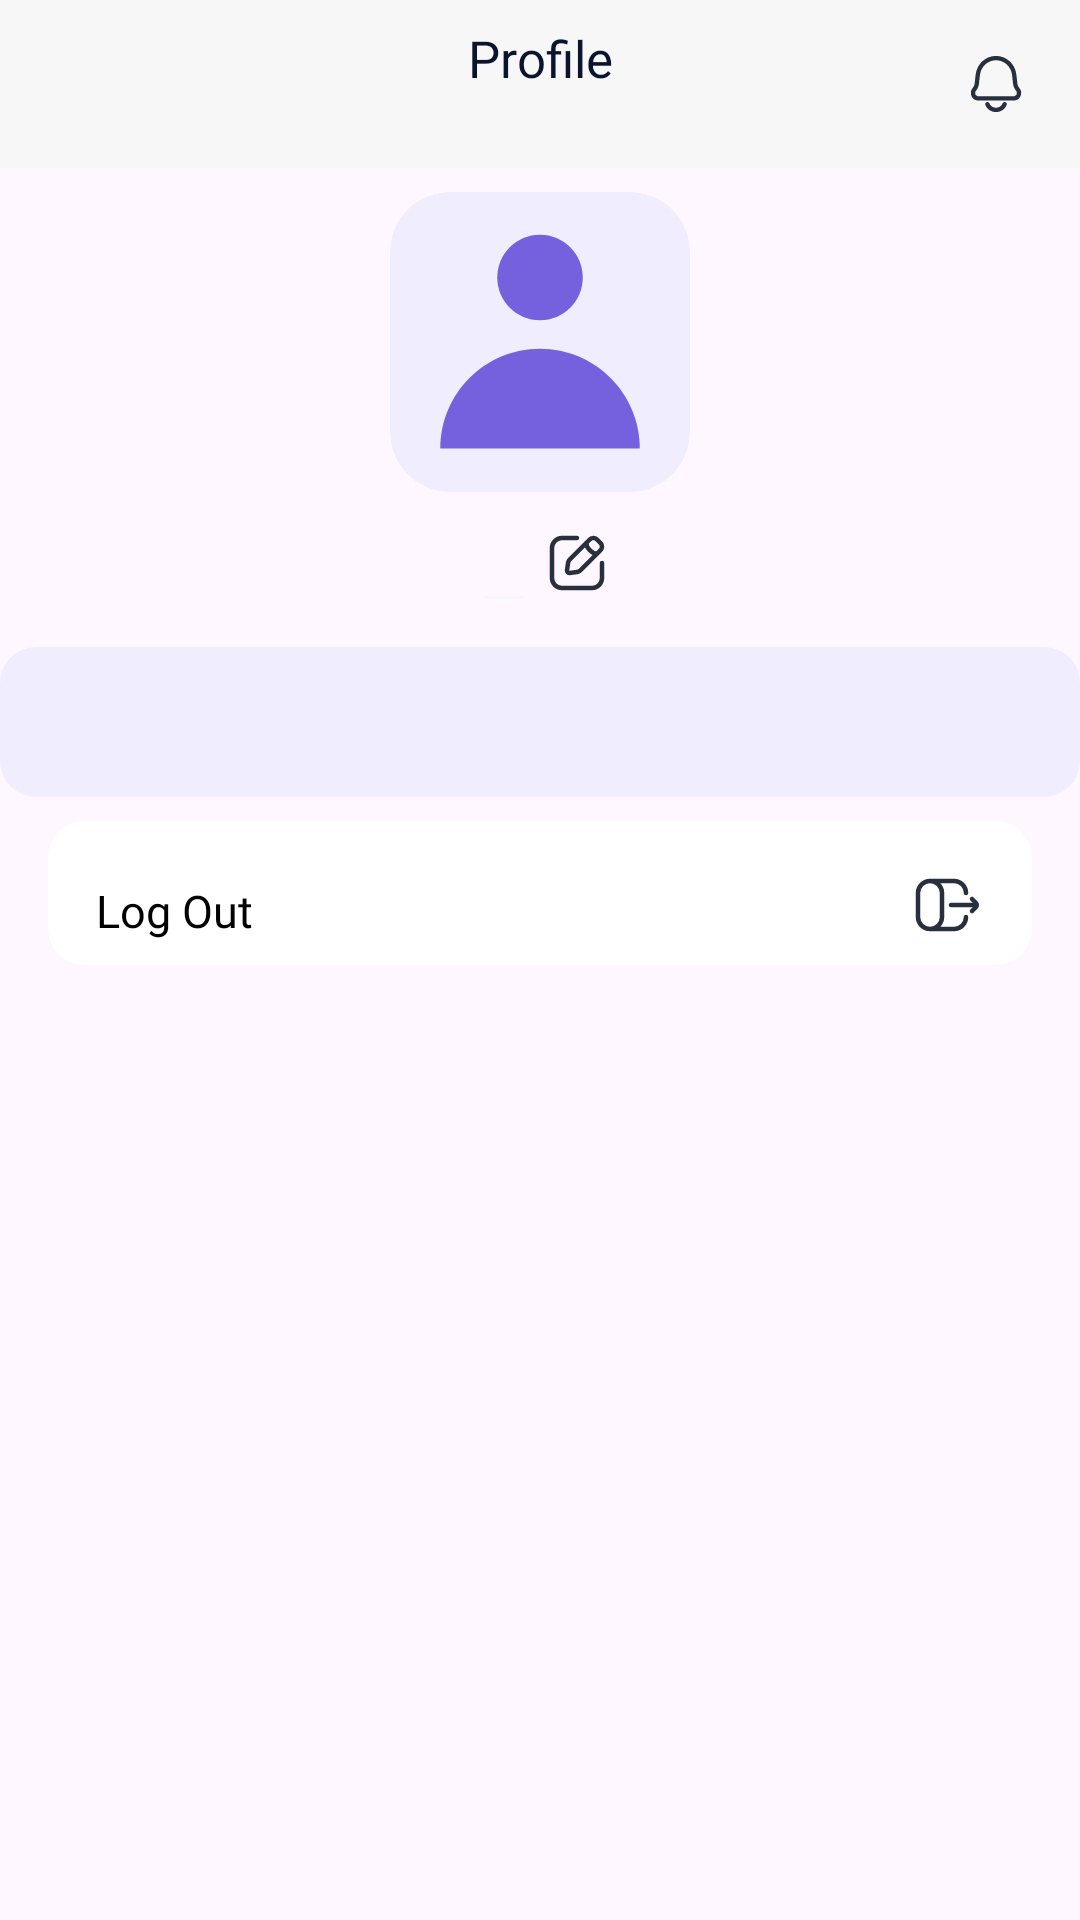

Point at icon controls on the screen. Image size 1080px x 1920px, points as point (x, y).
edit: point (577, 563)
notification: point (996, 84)
user: point (540, 341)
